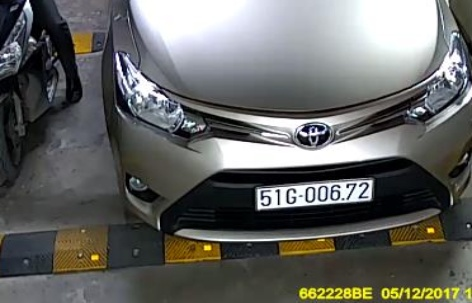plate: (251, 177, 381, 211)
